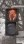stop: (4, 8, 19, 23)
